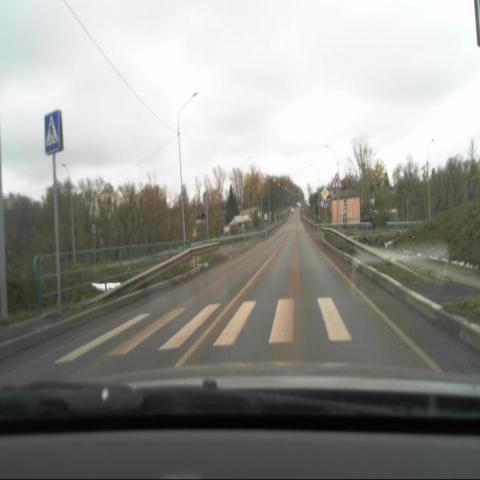1_20: (332, 173, 340, 186)
2_1: (321, 187, 329, 201)
5_19_1: (43, 112, 62, 153)
